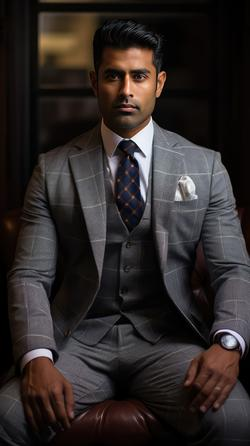Focused: (69, 18, 214, 162)
